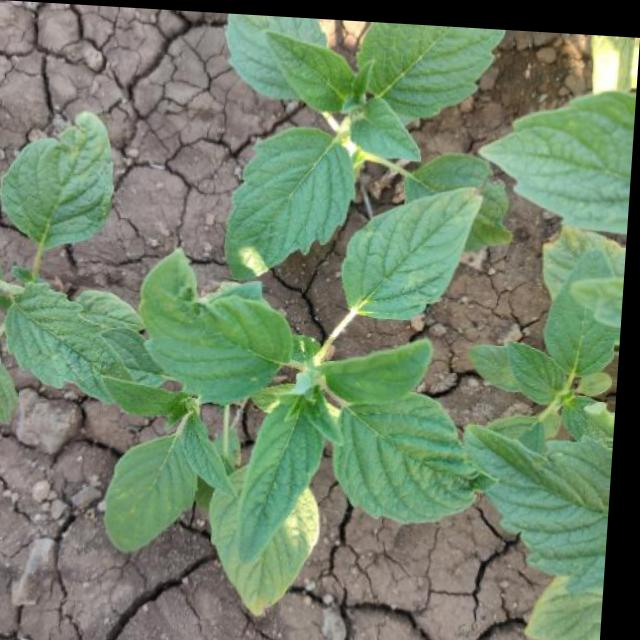crop: (103, 272, 502, 618), (203, 13, 527, 283), (0, 96, 196, 484)
